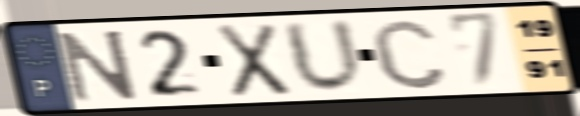2: (136, 27, 205, 99)
7: (444, 8, 502, 93)
C: (367, 15, 451, 92)
N: (54, 26, 142, 105)
U: (278, 16, 368, 97)
X: (213, 21, 293, 100)
